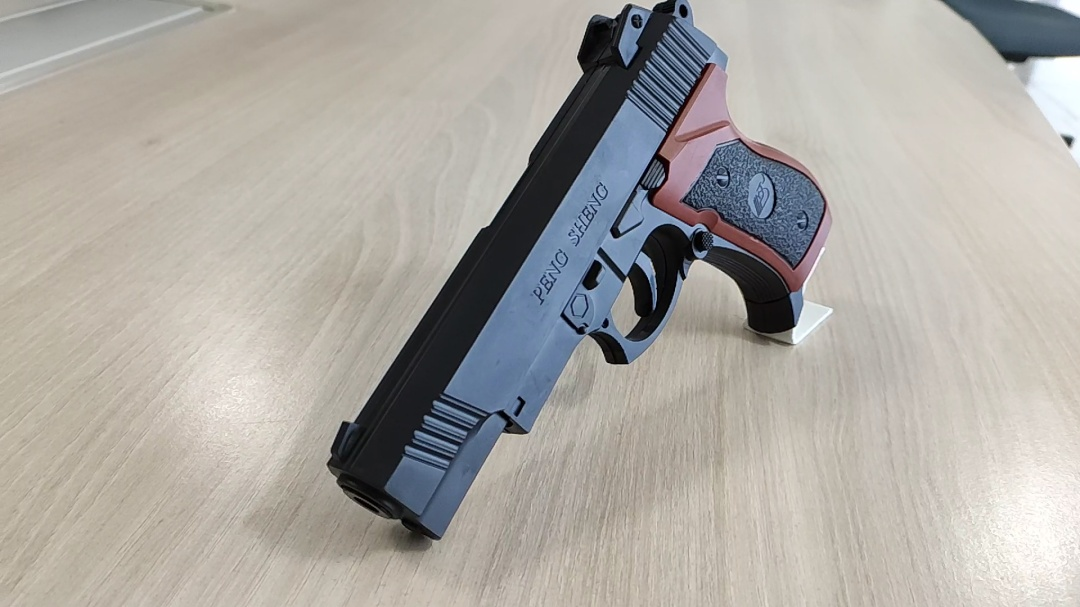gun: (466, 182, 505, 210)
